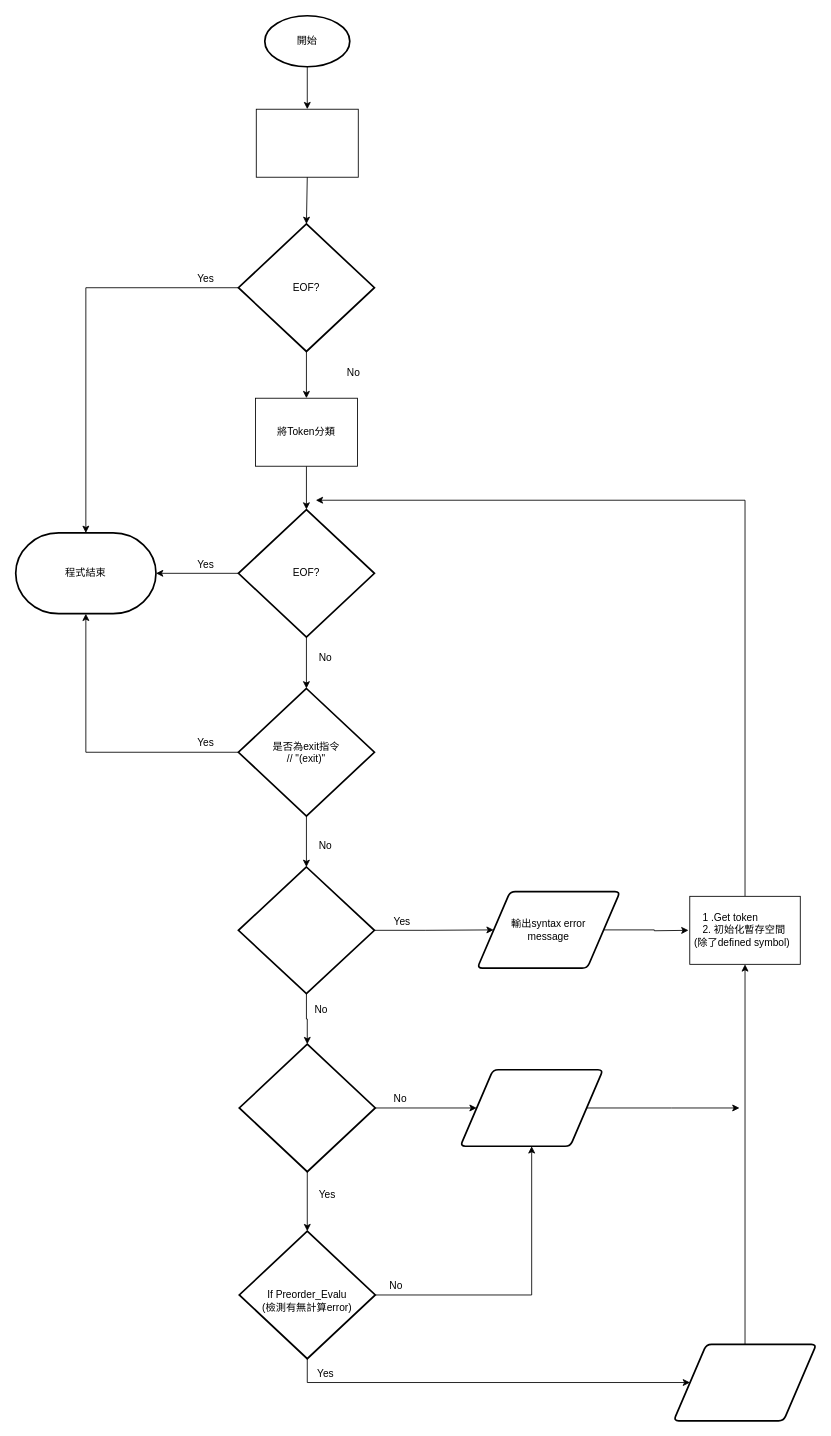
Some shapes in this 831 by 1436 pixel diagram are drawn without their labels. Here are the shapes that lost their labels. From the top down, the centre of each, then its label:
At point 306,142: "1. 新增全域變數宣告 區域 2.內建指令 3.GetToken".
At point 306,930: "if Sexp (檢測有無syntax error 並建樹)".
At point 307,1107: "該Sexp是否需要計算".
At point 531,1107: "前序走訪樹 並輸出".
At point 744,1382: "輸出 evaluation error message".
